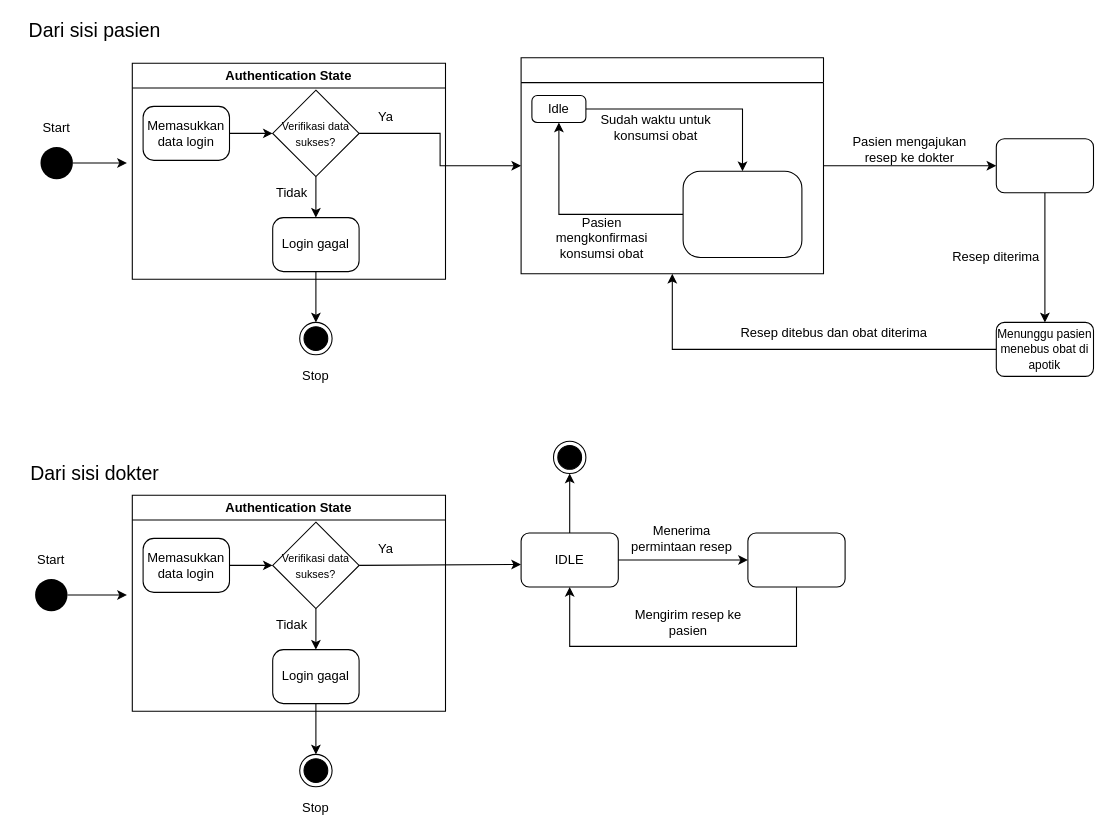
The diagram is 1112 pixels wide and 837 high, and some of its shapes have lost their labels. Each missing label, with the box of its shape:
Idle / Mode pengingat jadwal: (520, 57, 824, 274)
Membuat resep: (747, 532, 845, 587)
Mengingatkan jadwal konsumsi obat: (682, 170, 802, 258)
Menunggu resep dari dokter: (995, 138, 1094, 193)
